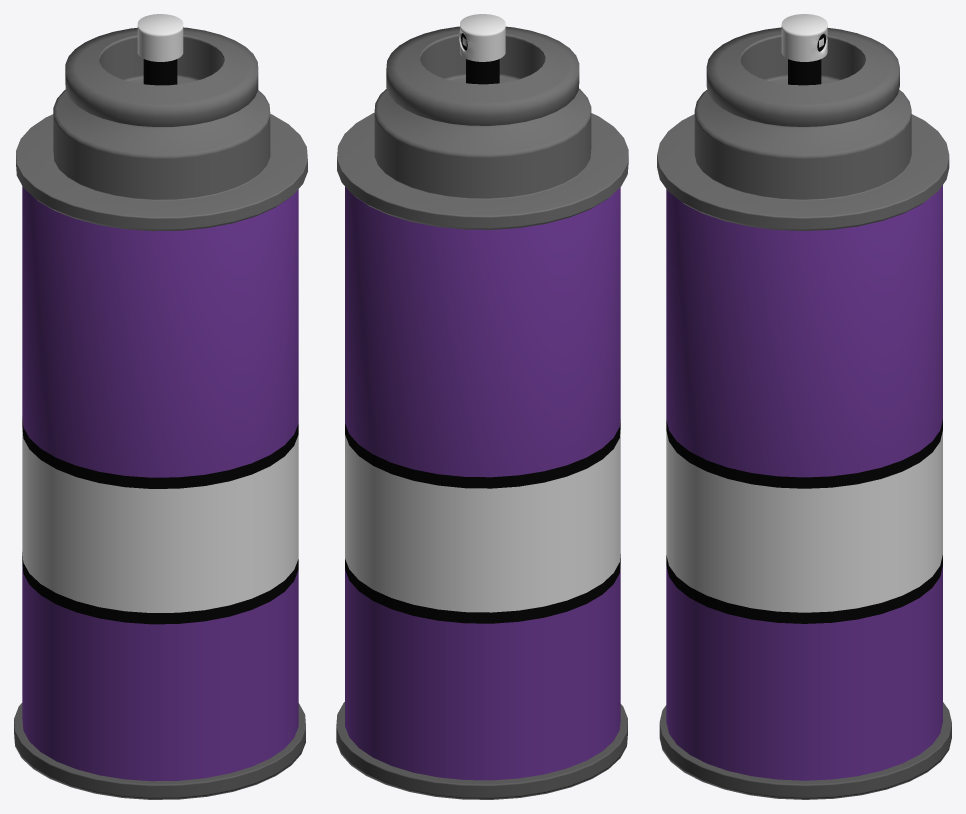
Rendered from spray.fbx.
3 renders of one model, left to right at view 1: azimuth 30°, elevation 25°; view 2: azimuth 150°, elevation 25°; view 3: azimuth 270°, elevation 25°, orthographic.
Visible parts, largest first — view 1: Cylinder, Cylinder_2, Cylinder_1, Cylinder_4, Cylinder_3; view 2: Cylinder, Cylinder_2, Cylinder_1, Cylinder_4, Cylinder_3; view 3: Cylinder, Cylinder_2, Cylinder_1, Cylinder_4, Cylinder_3.
Boxes of the visible parts, x1,y1,x2,y2 form: Cylinder: (22, 186, 298, 781); Cylinder_2: (16, 27, 307, 231); Cylinder_1: (14, 703, 305, 799); Cylinder_4: (137, 14, 183, 61); Cylinder_3: (143, 59, 177, 85); Cylinder: (345, 186, 620, 780); Cylinder_2: (337, 26, 628, 229); Cylinder_1: (336, 702, 627, 799); Cylinder_4: (459, 14, 505, 61); Cylinder_3: (466, 59, 499, 84); Cylinder: (666, 185, 942, 780); Cylinder_2: (657, 27, 949, 230); Cylinder_1: (659, 702, 951, 799); Cylinder_4: (781, 14, 827, 61); Cylinder_3: (788, 59, 821, 85).
Bounding box in the file's own units: 0.9137 × 2.46 × 0.9197.
